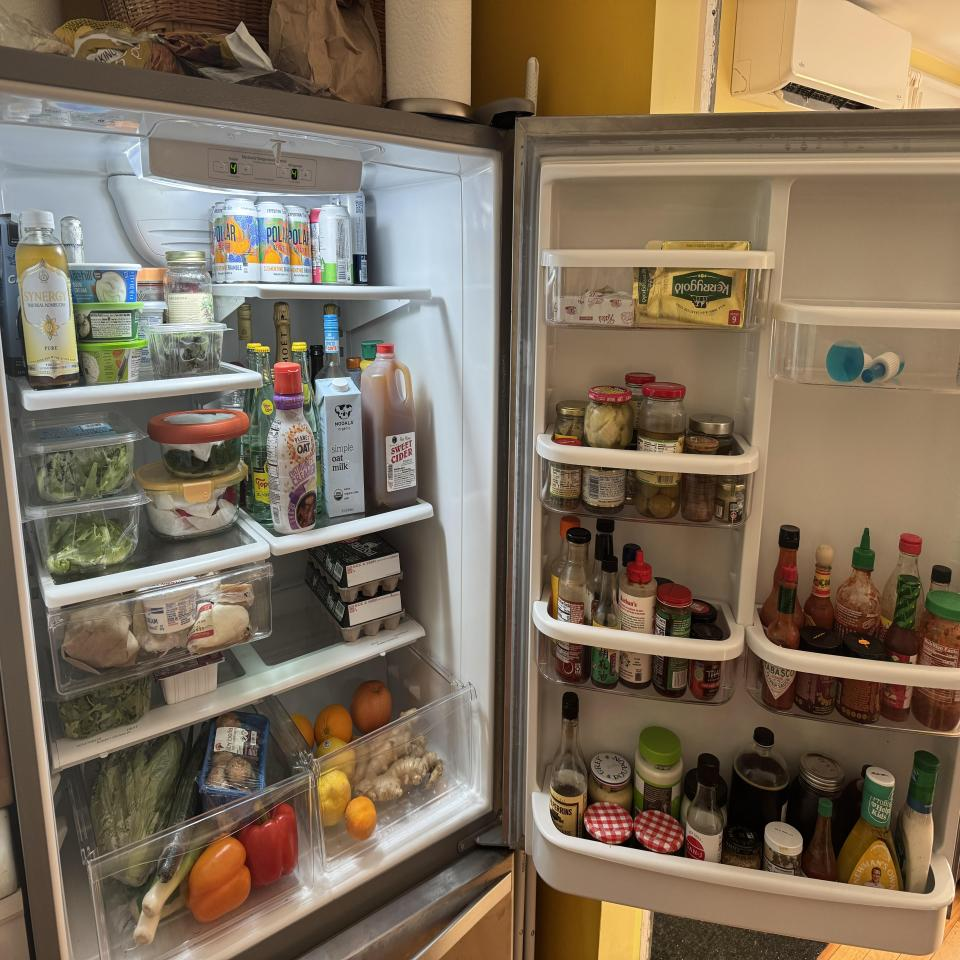Huevos: (309, 538, 405, 600), (308, 581, 404, 642)
Leche: (316, 378, 368, 518)
Limón: (313, 770, 351, 827), (317, 738, 357, 776)
Mantequilla: (646, 239, 750, 327)
Pepino: (156, 720, 210, 882)
Yogur: (138, 576, 200, 635)
